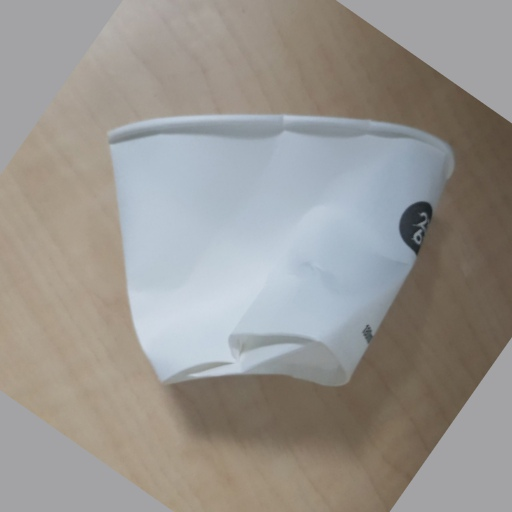Paper_1: (105, 111, 453, 392)
